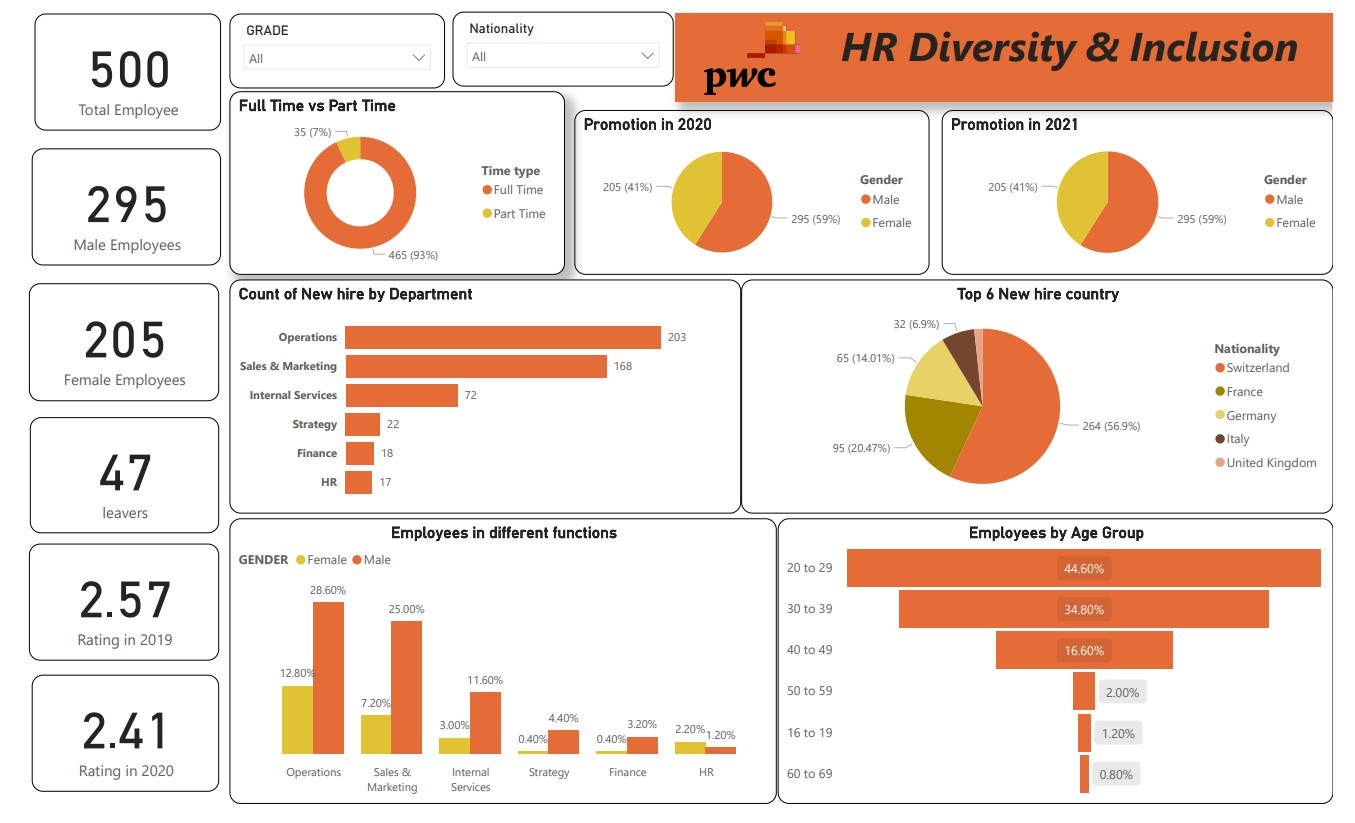

The page's visual inventory and layout, read from the dashboard file:
{"tool":"powerbi","page":{"name":"HR Diversity & Inclusion","canvas":[1400,859],"ordinal":0},"visuals":[{"type":"clusteredColumnChart","title":"Employees in different functions","fields":{"Category":["Backing 1.FUNCTION"],"Y":["Divide(CountNonNull(Backing 1.GENDER), ScopedEval(CountNonNull(Backing 1.GENDER), []))"],"Series":["Backing 1.GENDER"]},"box":[223.2,554.4,583.6,304.9],"z":0},{"type":"slicer","fields":{"Values":["Backing 1.GRADE"]},"box":[223.2,14.6,230,80],"z":1000},{"type":"slicer","fields":{"Values":["Backing 1.Nationality"]},"box":[461,13.1,236.3,80],"z":2000},{"type":"pieChart","title":"Promotion in 2020","fields":{"Category":["Pharma Group AG.Gender"],"Y":["CountNonNull(Pharma Group AG.Promotion in FY20?)"]},"box":[590.9,118.2,379.3,176],"z":3000},{"type":"pieChart","title":"Promotion in 2021","fields":{"Category":["Pharma Group AG.Gender"],"Y":["CountNonNull(Pharma Group AG.Promotion in FY21?)"]},"box":[983.3,118.2,417.2,176],"z":4000},{"type":"funnel","title":"Employees by Age Group","fields":{"Category":["Pharma Group AG.Age group"],"Y":["CountNonNull(Pharma Group AG.Age group)"]},"box":[808.2,554.4,592.3,304.9],"z":5000},{"type":"textbox","box":[699.4,15.2,840.9,94.3],"z":6000},{"type":"image","box":[699.4,0,162.7,124.7],"z":7000},{"type":"donutChart","title":"Full Time vs Part Time","fields":{"Category":["Pharma Group AG.Time type"],"Y":["CountNonNull(Pharma Group AG.Time type)"]},"box":[223.2,97.7,357.4,196],"z":8000},{"type":"barChart","title":"Count of New hire by Department","fields":{"Y":["CountNonNull(Pharma Group AG.New hire FY20?)"],"Category":["Pharma Group AG.Department @01.07.2020"]},"box":[223.2,299.1,545.6,249.5],"z":9000},{"type":"card","fields":{"Values":["Avg(Pharma Group AG.Average Rating 2019)"]},"box":[8.8,580.6,202.8,125.5],"z":10000},{"type":"card","fields":{"Values":["Pharma Group AG.leavers"]},"box":[10.2,446.4,201.3,124],"z":11000},{"type":"card","fields":{"Values":["Avg(Pharma Group AG.Average Rating 2020)"]},"box":[11.7,720.7,199.9,125.5],"z":12000},{"type":"card","fields":{"Values":["Pharma Group AG.FemaleCount"]},"box":[8.8,303.5,202.8,125.5],"z":13000},{"type":"card","fields":{"Values":["Pharma Group AG.MaleCount"]},"box":[11.7,159,202.8,125.5],"z":14000},{"type":"card","fields":{"Values":["CountNonNull(Pharma Group AG.Employee ID)"]},"box":[14.6,14.6,199.9,125.5],"z":15000},{"type":"pieChart","title":"Top 6 New hire country","fields":{"Y":["CountNonNull(Pharma Group AG.New hire FY20?)"],"Category":["Pharma Group AG.Nationality 1"]},"box":[768.8,299.1,631.7,249.5],"z":16000}]}

Visuals, with their boxes in screenshot pixels (x1, y1, x2, y2), scaled from the page's 1400x859 canvas onto the 1355x823 screenshot:
"Employees in different functions" clusteredColumnChart: <bbox>216, 531, 781, 822</bbox>
slicer - Backing 1.GRADE: <bbox>216, 14, 439, 91</bbox>
slicer - Backing 1.Nationality: <bbox>446, 13, 675, 89</bbox>
"Promotion in 2020" pieChart: <bbox>572, 113, 939, 282</bbox>
"Promotion in 2021" pieChart: <bbox>952, 113, 1354, 282</bbox>
"Employees by Age Group" funnel: <bbox>782, 531, 1354, 822</bbox>
textbox: <bbox>677, 15, 1354, 105</bbox>
image: <bbox>677, 0, 834, 119</bbox>
"Full Time vs Part Time" donutChart: <bbox>216, 94, 562, 281</bbox>
"Count of New hire by Department" barChart: <bbox>216, 287, 744, 526</bbox>
card - Avg(Pharma Group AG.Average Rating 2019): <bbox>9, 556, 205, 677</bbox>
card - Pharma Group AG.leavers: <bbox>10, 428, 205, 546</bbox>
card - Avg(Pharma Group AG.Average Rating 2020): <bbox>11, 690, 205, 811</bbox>
card - Pharma Group AG.FemaleCount: <bbox>9, 291, 205, 411</bbox>
card - Pharma Group AG.MaleCount: <bbox>11, 152, 208, 273</bbox>
card - CountNonNull(Pharma Group AG.Employee ID): <bbox>14, 14, 208, 134</bbox>
"Top 6 New hire country" pieChart: <bbox>744, 287, 1354, 526</bbox>
